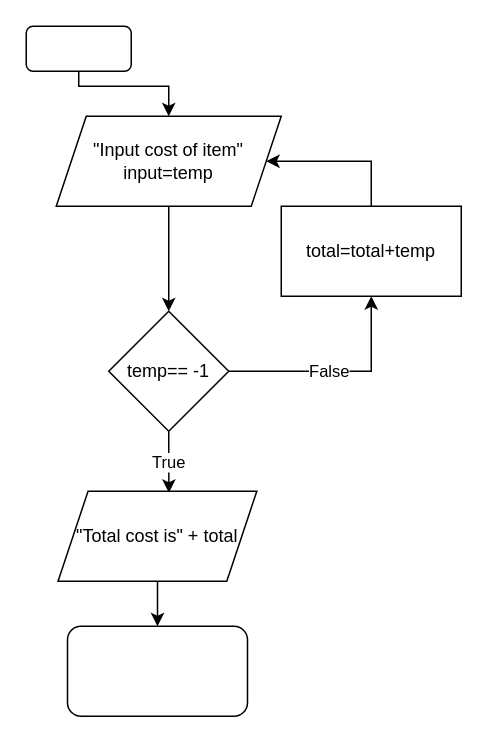
This 488x743 diagram has some shape labels left out. The shapes that lost their labels are listed below. From the top down, each one's centre as x and y in pixels, then its label:
point (78, 48): Start
point (157, 670): End
